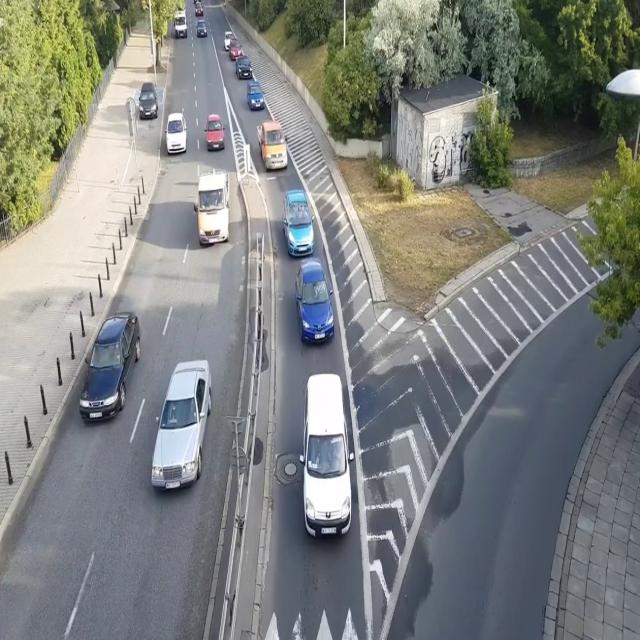car: (150, 358, 212, 494), (78, 310, 141, 422), (293, 258, 335, 344), (282, 188, 316, 258), (165, 112, 188, 154), (204, 114, 225, 151), (138, 82, 158, 120), (246, 81, 265, 111), (234, 55, 252, 79), (228, 38, 243, 61), (195, 19, 208, 38), (223, 30, 235, 50), (194, 2, 204, 16), (192, 0, 202, 4)
truck: (193, 169, 230, 245), (258, 120, 288, 170), (173, 7, 188, 39)
van: (297, 372, 355, 538)
